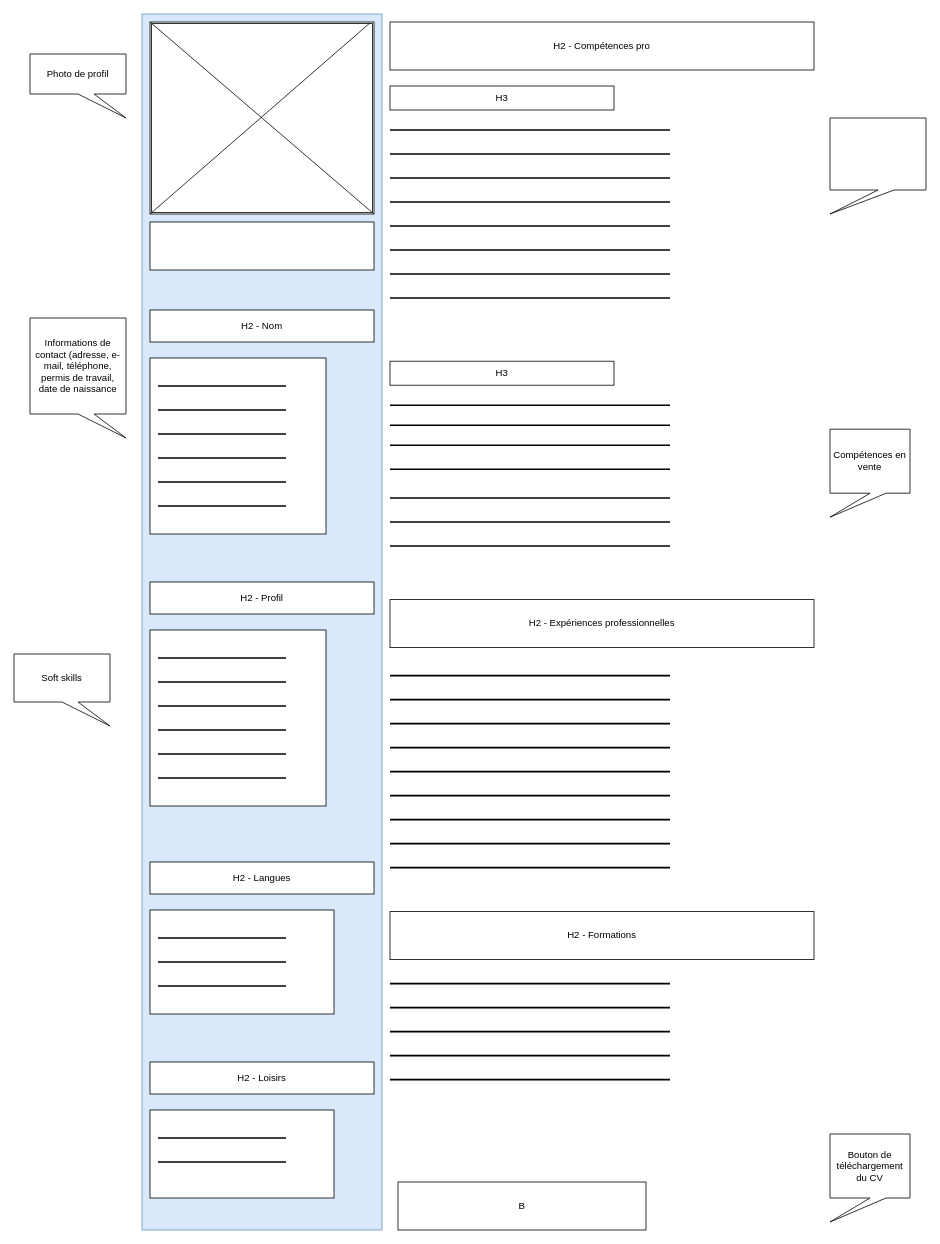
The diagram is 940 pixels wide and 1244 high, and some of its shapes have lost their labels. The box of each missing label's shape, as (x1, y1, x2, y2) in pixels:
Compétences en lnformatique: (829, 117, 926, 214)
H1 - Emploi: (149, 221, 374, 270)
